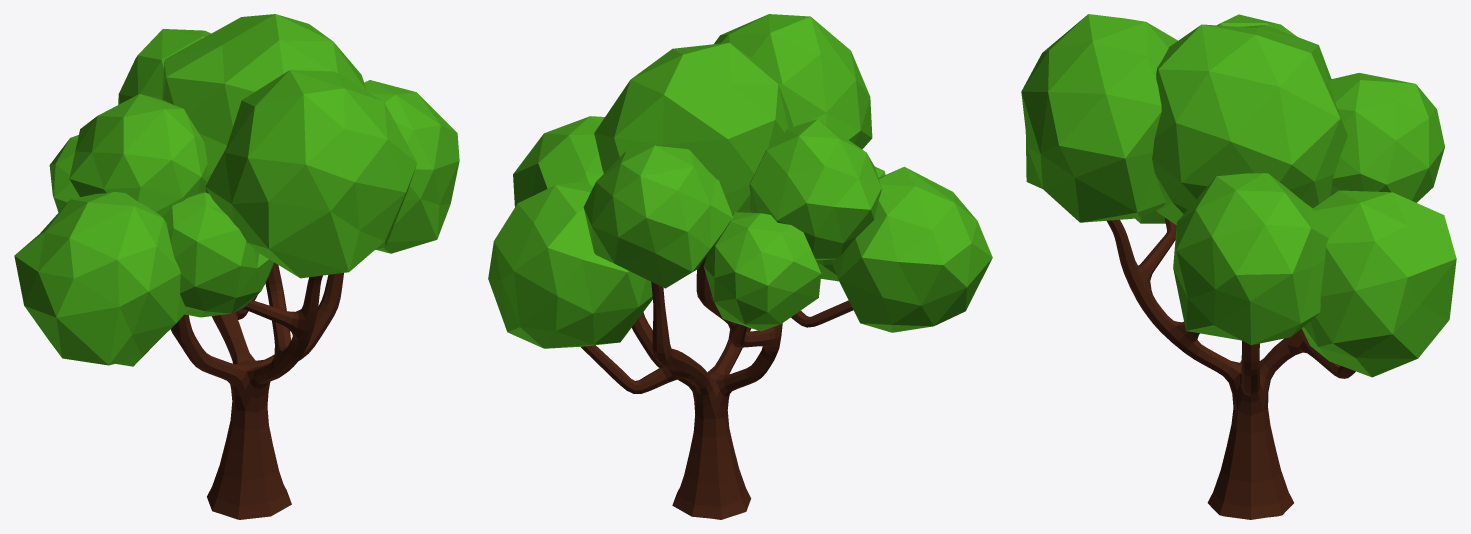
File: GreenTree01.fbx
3 views of the same model, side by side, from view 1: azimuth 30°, elevation 25°; view 2: azimuth 150°, elevation 25°; view 3: azimuth 270°, elevation 25° (orthographic). The views are drawn at different scales.
Visible parts, largest first — view 1: Plane; view 2: Plane; view 3: Plane.
Part boxes in pixels (x1,y1,x2,y2): Plane: [14, 14, 459, 519]; Plane: [488, 14, 992, 519]; Plane: [1021, 14, 1456, 519].
Bounding box in the file's own units: 1180 × 1206 × 977.
